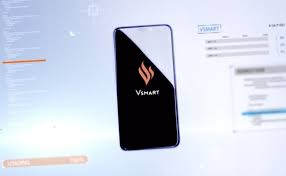vsmart: (112, 20, 181, 152)
